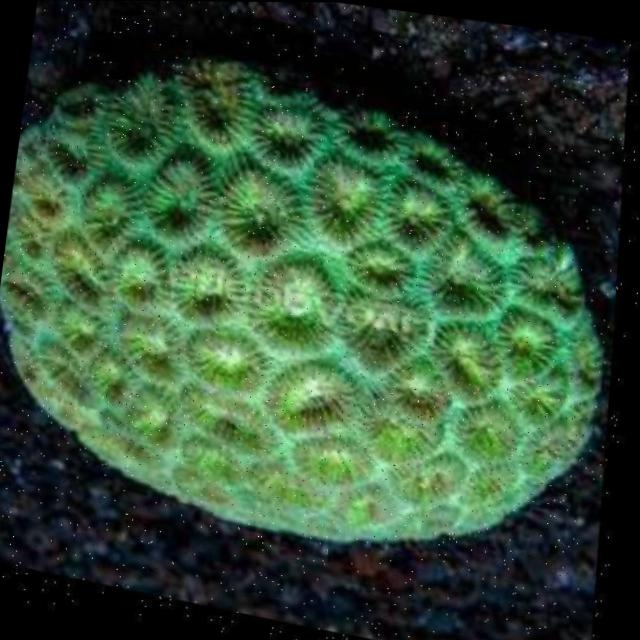Healthy Coral: (0, 50, 608, 571)
